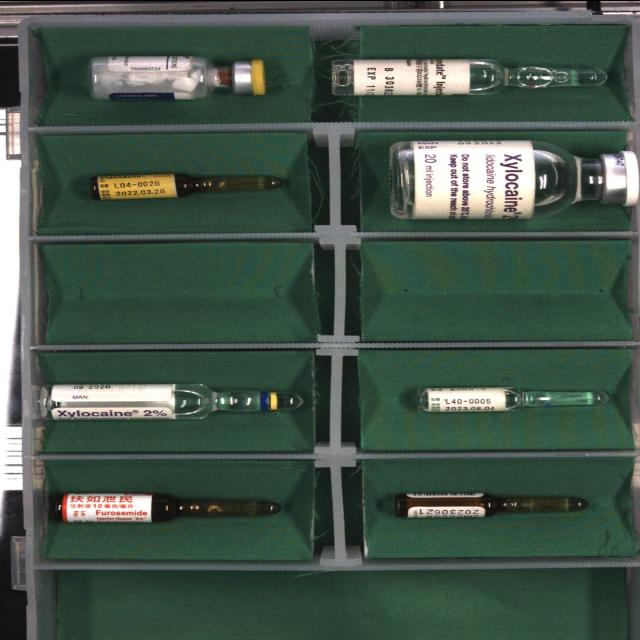Vials: (390, 139, 638, 218), (91, 56, 266, 99)
